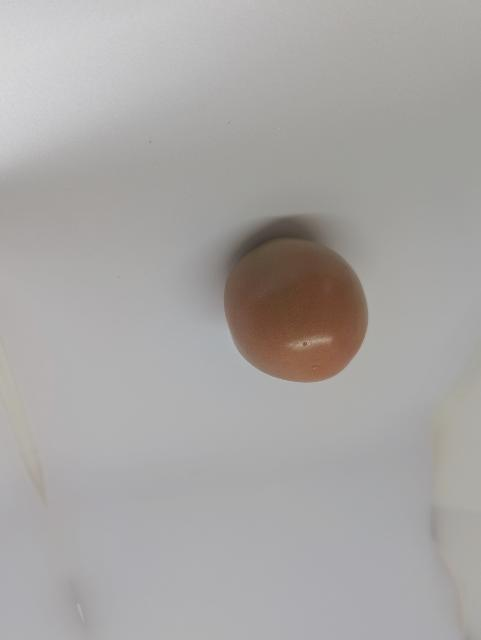turning: (220, 237, 373, 390)
